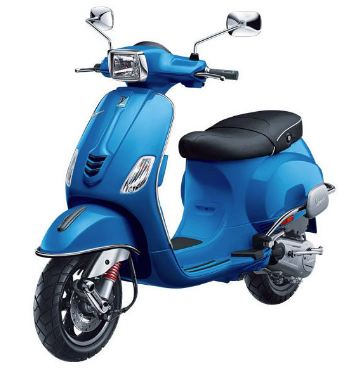bike: (32, 4, 333, 364)
